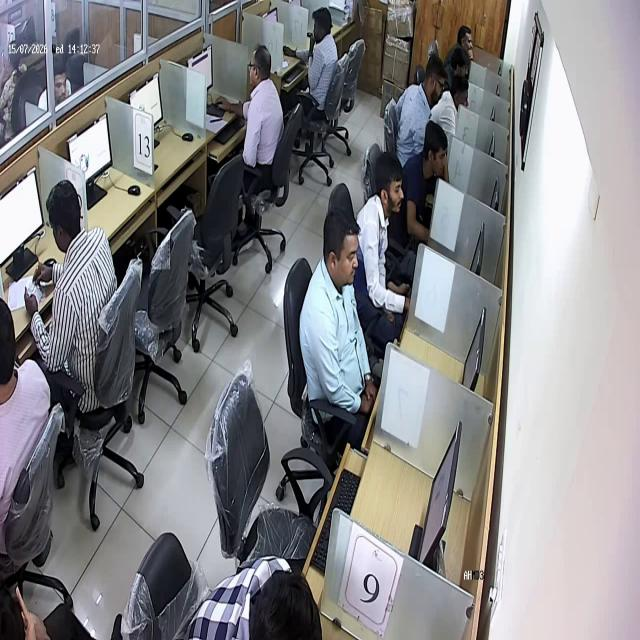paper-chit: (26, 274, 44, 306)
